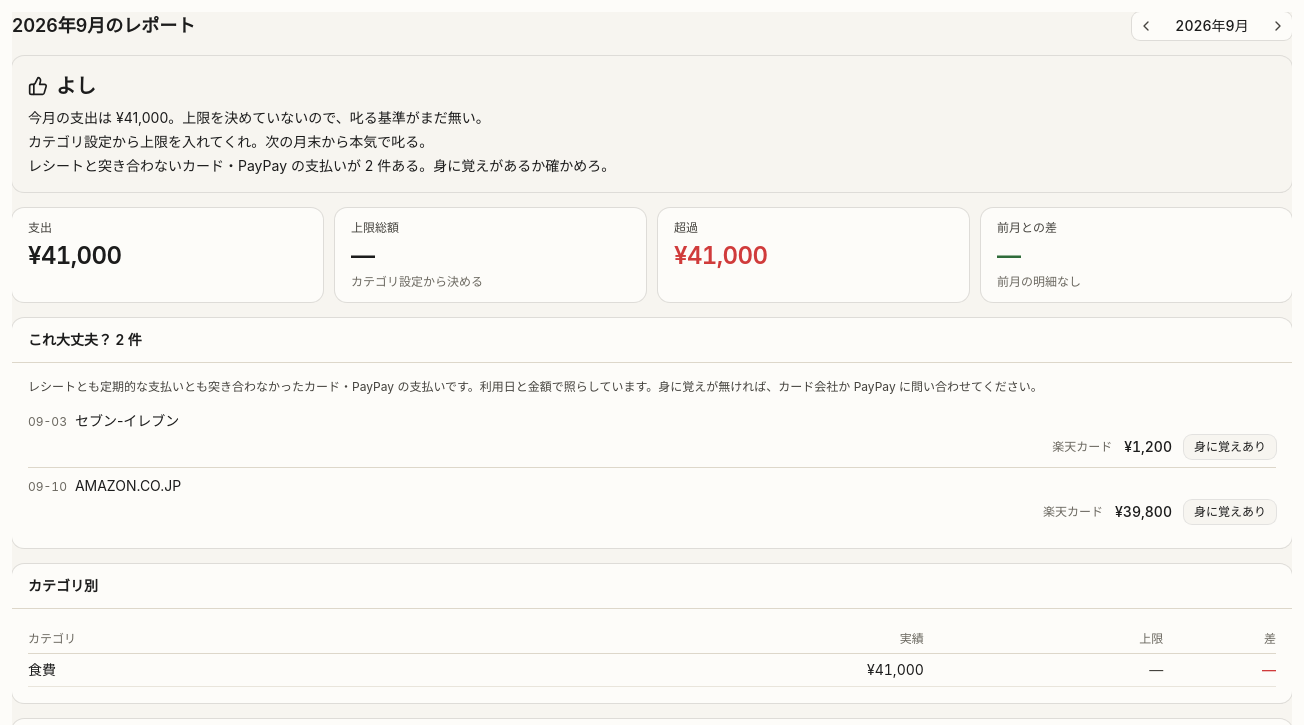
Test: ReportPage の身に覚えの確かめ › レシートと突き合わない支払いを並べ、身に覚えありで外す
This screenshot has width=1304, height=725.
Expected: the heading "これ大丈夫？ 2 件" is shown, [28,330,142,350]
Click the 2nd button "身に覚えあり". click: (1230, 512)
box: [1184,500,1276,524]
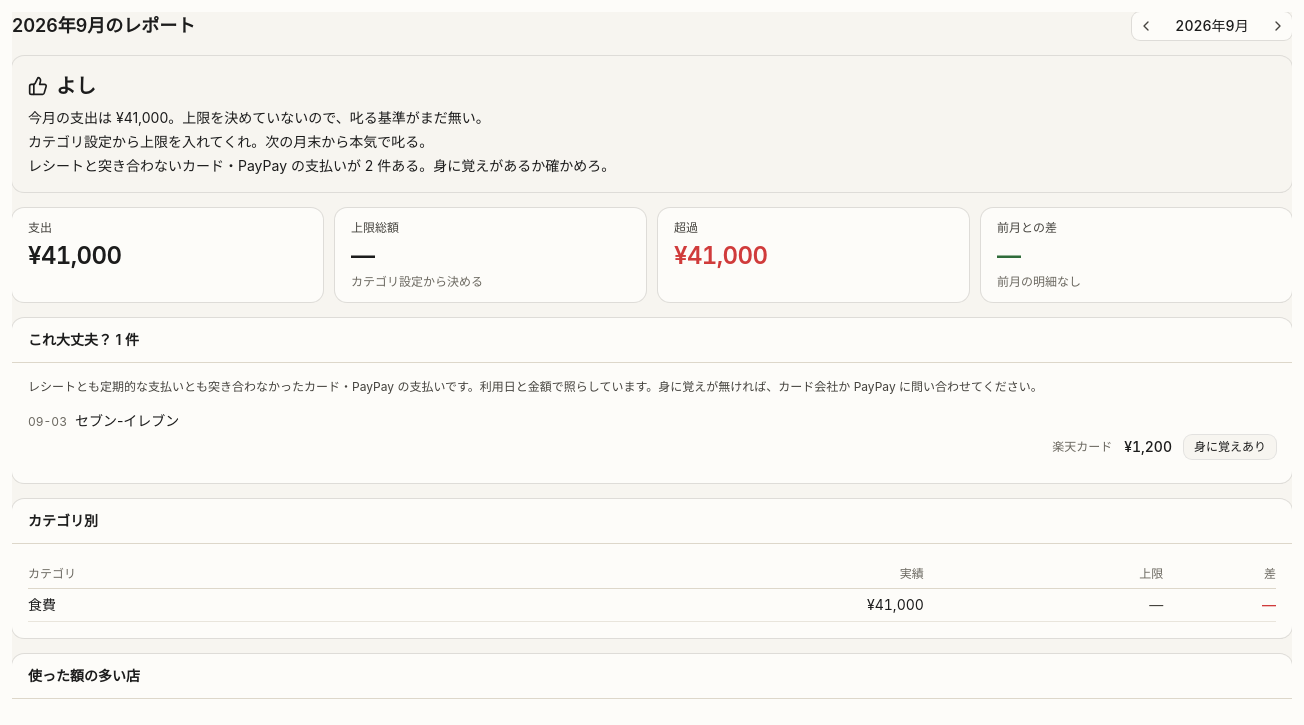
Expected: the text "セブン-イレブン" is shown, [75,412,179,429]
Expected: the heading "これ大丈夫？ 1 件" is shown, [28,330,139,350]
